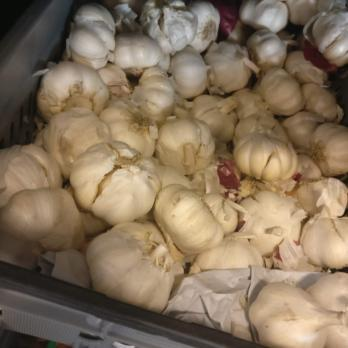Garlic: (69, 2, 348, 281), (120, 279, 348, 348), (2, 145, 72, 265)
